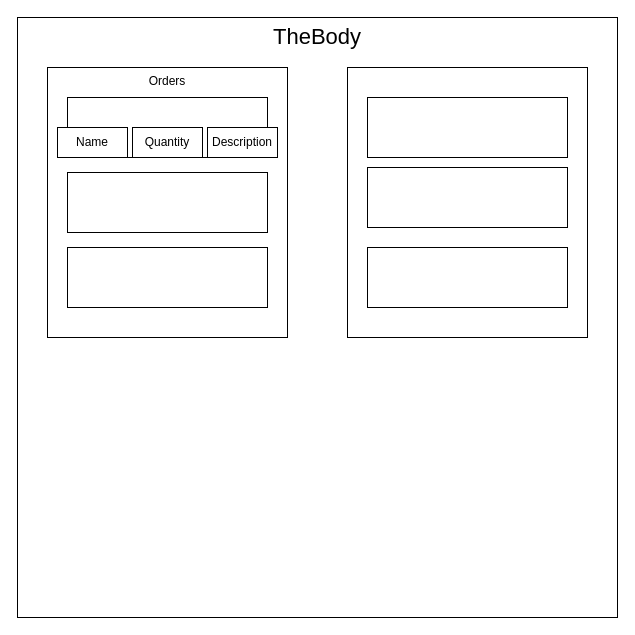
Image size: 635x635. Some labels were removed from this diagram. The box of each missing label's shape, as (x1, y1, x2, y2) in pixels:
Create or Remove: (346, 66, 588, 338)
Item: (66, 96, 268, 158)
